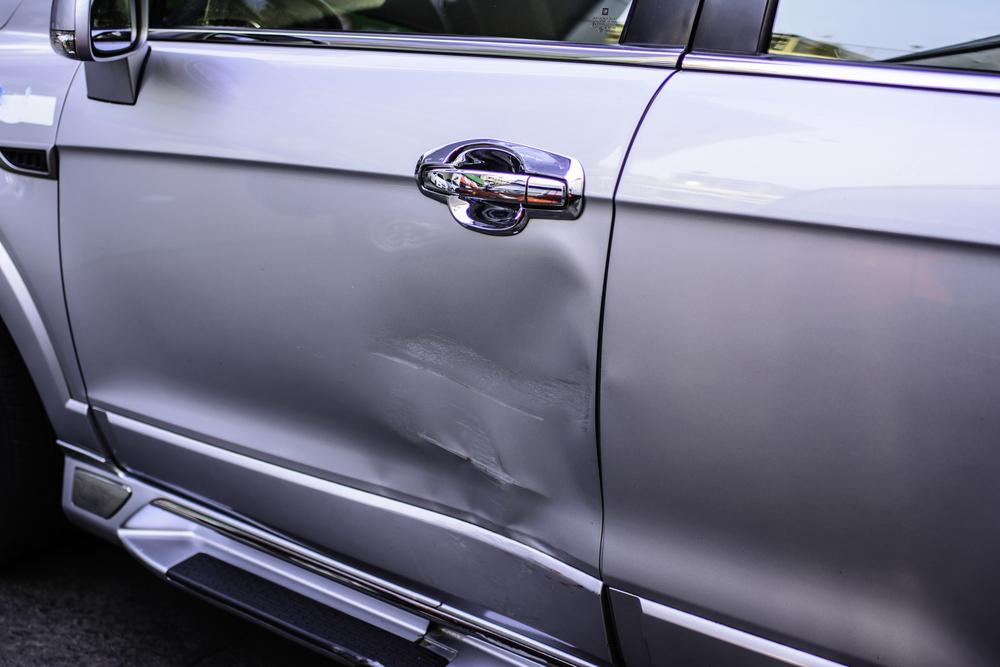dent: (357, 234, 599, 571)
